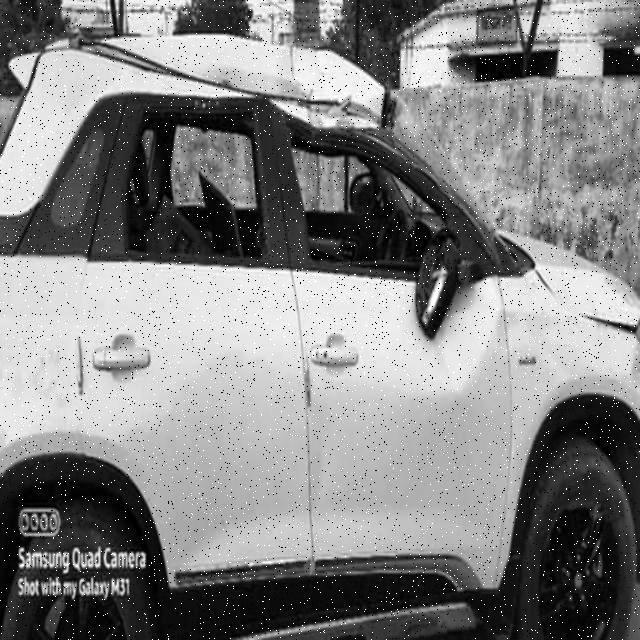Sidemirror-Damage: (403, 228, 476, 345)
doorouter-dent: (295, 271, 510, 561)
fender-dent: (503, 287, 639, 507)
roof-dent: (93, 25, 385, 131)
